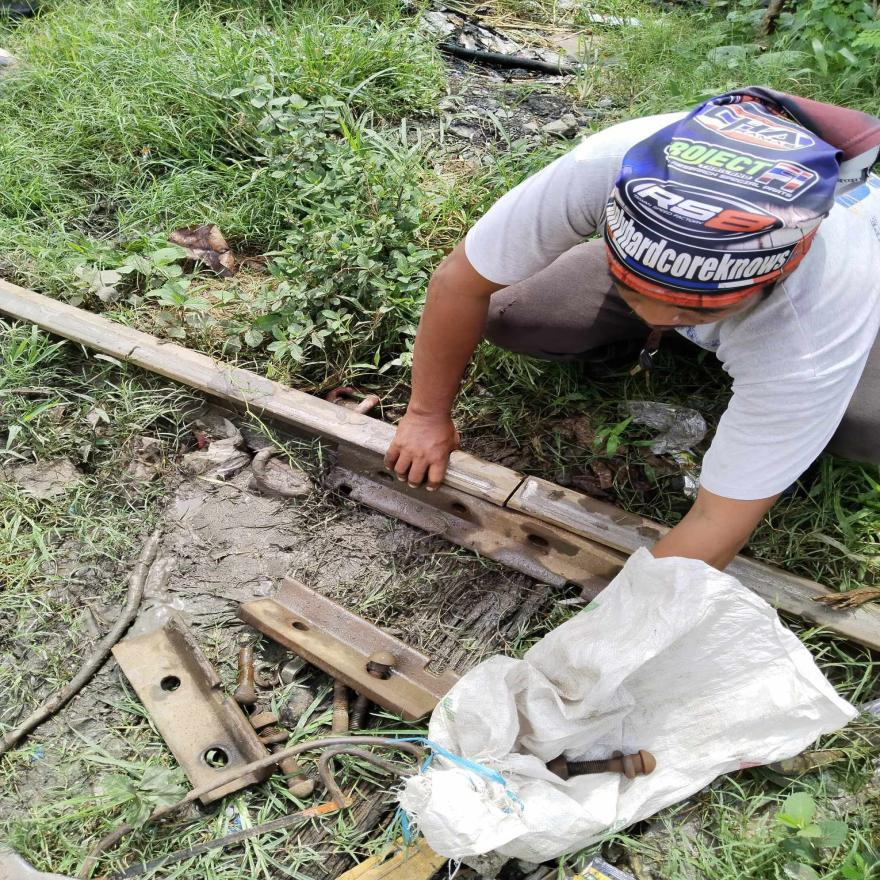railway-gap: (466, 455, 566, 528)
